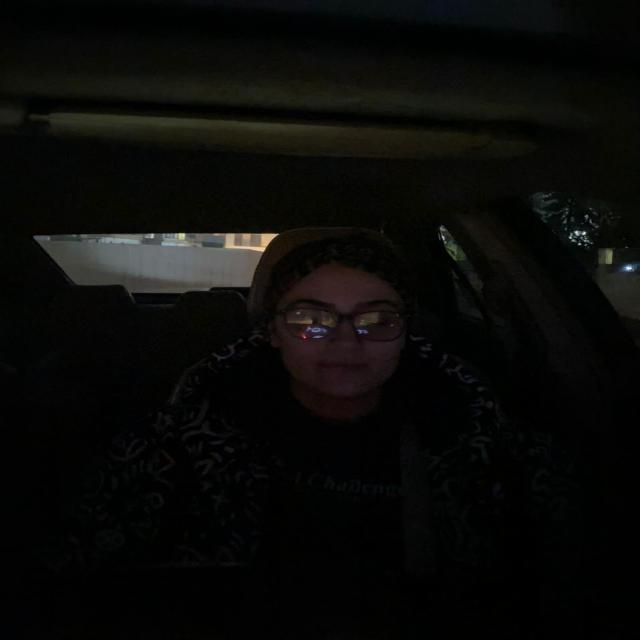drowsy: (257, 240, 432, 406)
